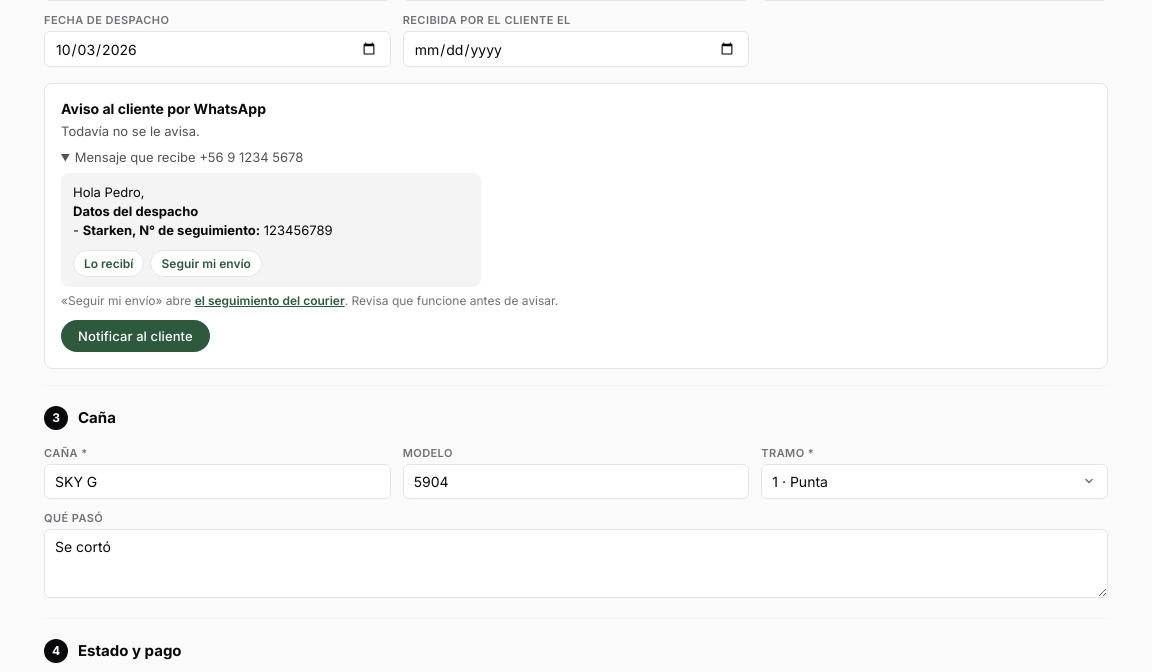
it: GarantiaFicha — aviso por WhatsApp › confirmado, manda el id, el bloqueo y reenviar=false, y muestra el envío
This screenshot has width=1152, height=672.
(page scrolled)
Click the button "Notificar al cliente".
click(135, 336)  # box [61,320,210,352]
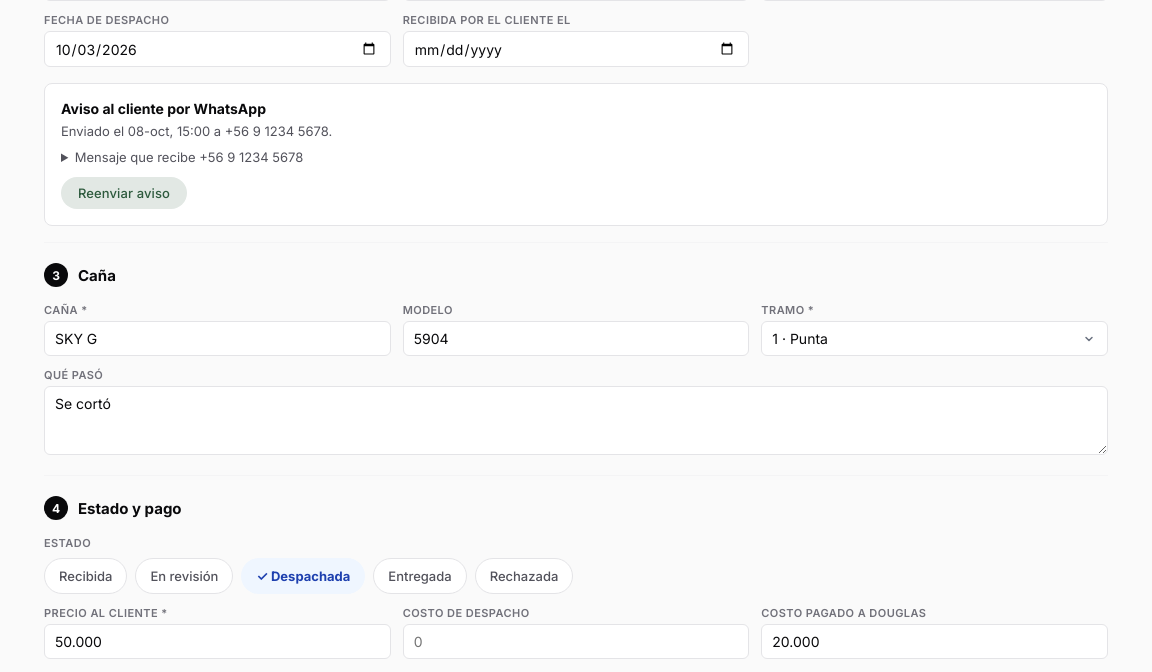
Check: the button "Reenviar aviso" is shown, box [61,177,187,209]
Check: the text "Enviado el" is shown, box [61,123,332,139]
